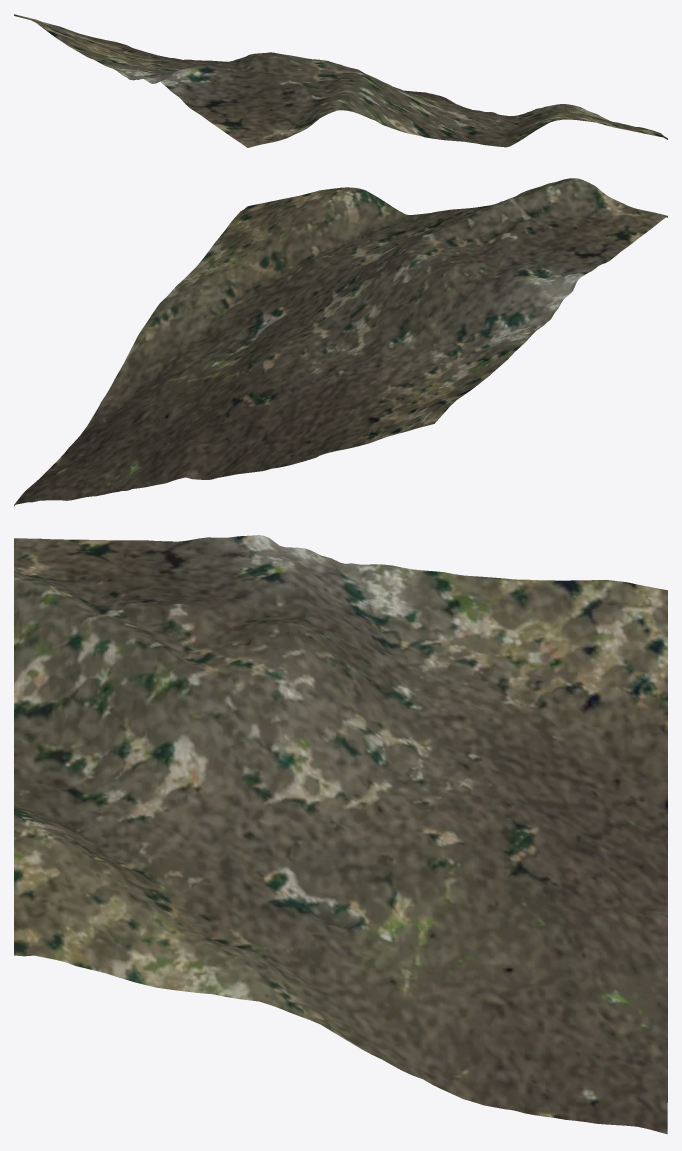
The picture shows the model from 3 angles, top to bottom: view 1: azimuth 30°, elevation 25°; view 2: azimuth 150°, elevation 25°; view 3: azimuth 270°, elevation 25°; orthographic projection. The views are drawn at different scales.
Size of the model in its own units: 250 by 135 by 241.
Materials: 1 (1 with a texture image).
